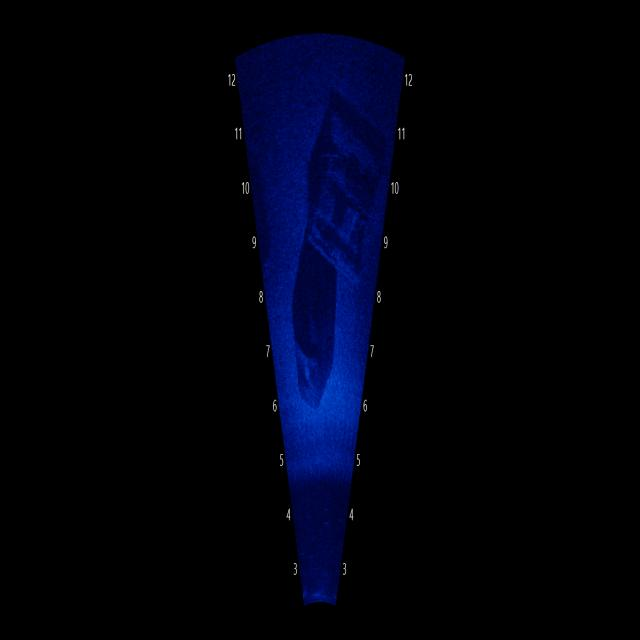square: (302, 71, 376, 297), (288, 215, 340, 432)
